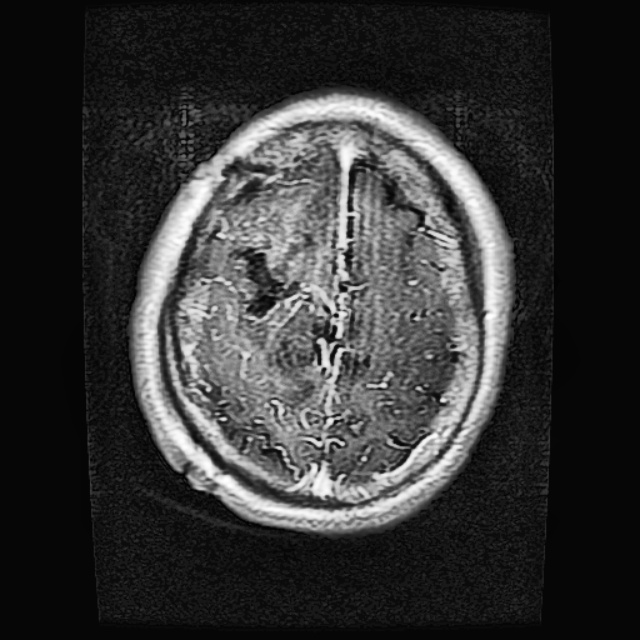Glioma: (243, 250, 303, 318)
